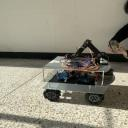cart: (41, 55, 115, 105)
